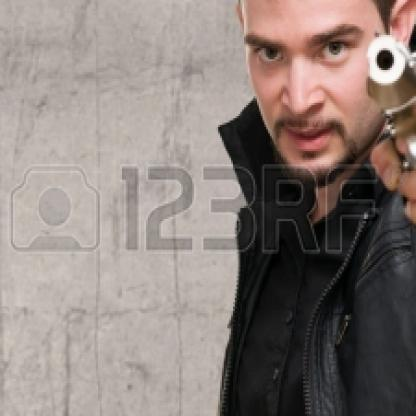gun: (357, 18, 414, 282)
